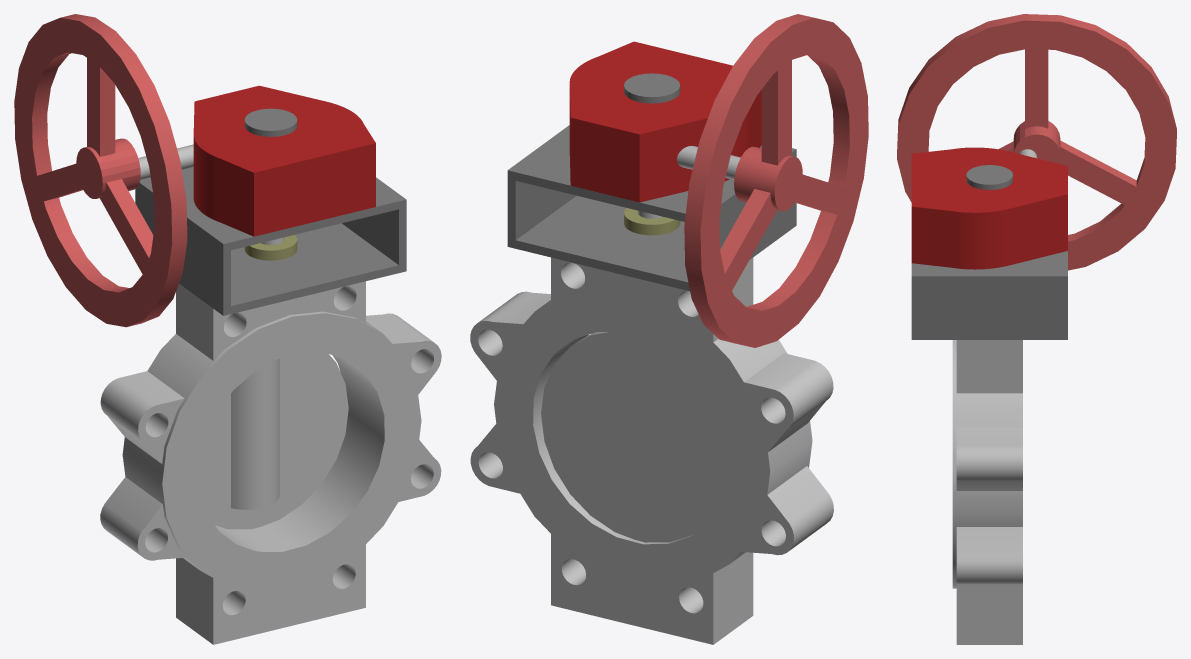
File: BFLY.dae
The picture shows the model from 3 angles, left to right: view 1: azimuth 30°, elevation 25°; view 2: azimuth 150°, elevation 25°; view 3: azimuth 270°, elevation 25°; orthographic projection. The views are drawn at different scales.
Parts seen in each view (by area): view 1: group_0 (×2), group_4 (×2), group_2, group_5, group_1 (×2), SketchUp (×2); view 2: group_0 (×2), group_4 (×2), group_5, group_2, group_1 (×2), SketchUp (×2), group_3; view 3: group_4 (×2), group_0, group_2, group_1, SketchUp.
Part boxes in pixels (<box>): group_0 (×2): <box>100,281,441,644</box>; group_4 (×2): <box>14,14,187,327</box>; group_2: <box>193,85,375,236</box>; group_5: <box>199,352,348,529</box>; group_1 (×2): <box>135,167,406,315</box>; SketchUp (×2): <box>244,108,297,260</box>; group_0 (×2): <box>470,257,833,644</box>; group_4 (×2): <box>684,14,868,347</box>; group_5: <box>541,332,730,542</box>; group_2: <box>569,41,761,202</box>; group_1 (×2): <box>507,125,796,291</box>; SketchUp (×2): <box>624,73,680,235</box>; group_3: <box>677,146,740,179</box>; group_4 (×2): <box>897,14,1176,270</box>; group_0: <box>952,340,1022,644</box>; group_2: <box>911,147,1067,269</box>; group_1: <box>911,251,1067,339</box>; SketchUp: <box>966,165,1013,189</box>.
Bounding box in the file's own units: 10.06 × 8.96 × 18.81.
